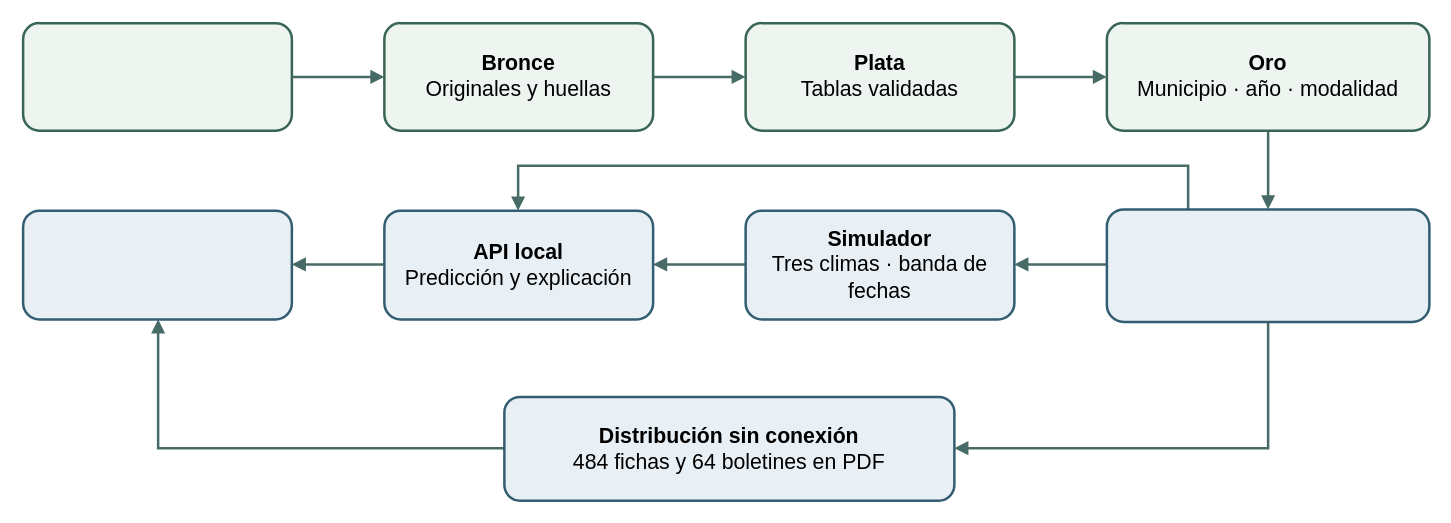
Some shapes in this 1451 by 523 pixel diagram are drawn without their labels. Each missing label, with the box of its shape:
Fuentes públicas SIAP · POWER INEGI · CONAPO: (21, 21, 292, 131)
Interfaz local Productor y técnico: (21, 209, 292, 320)
Modelos calibrados Climatología y boosting: (1105, 208, 1430, 322)
